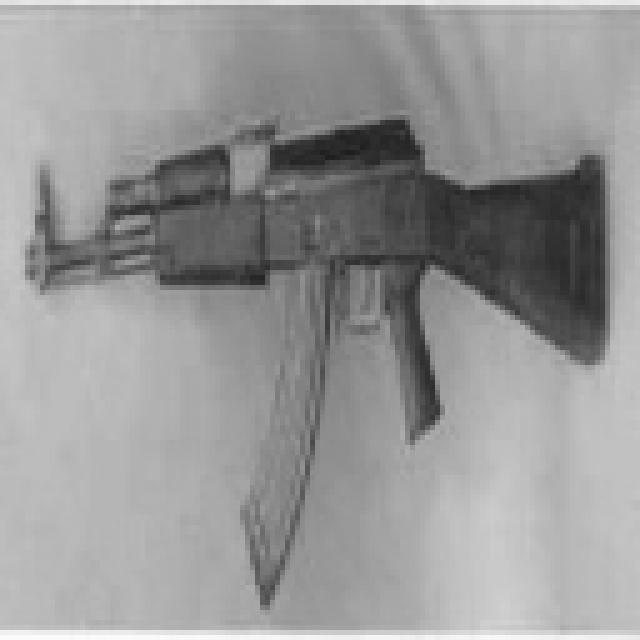Rifle: (0, 0, 615, 625)
